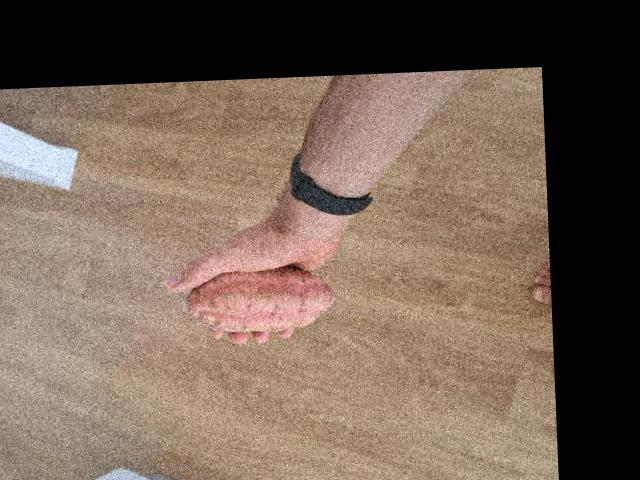sweet_potato: (186, 259, 337, 337)
